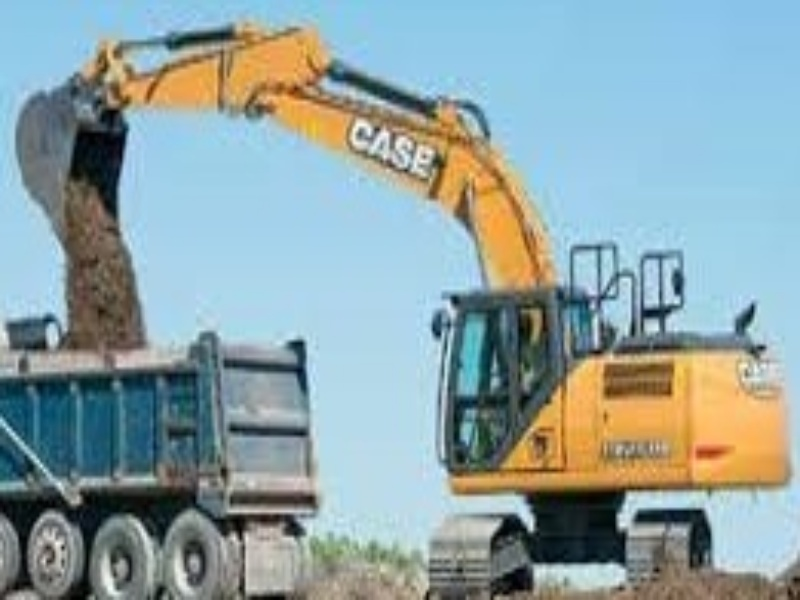wajueji: (362, 194, 800, 598)
